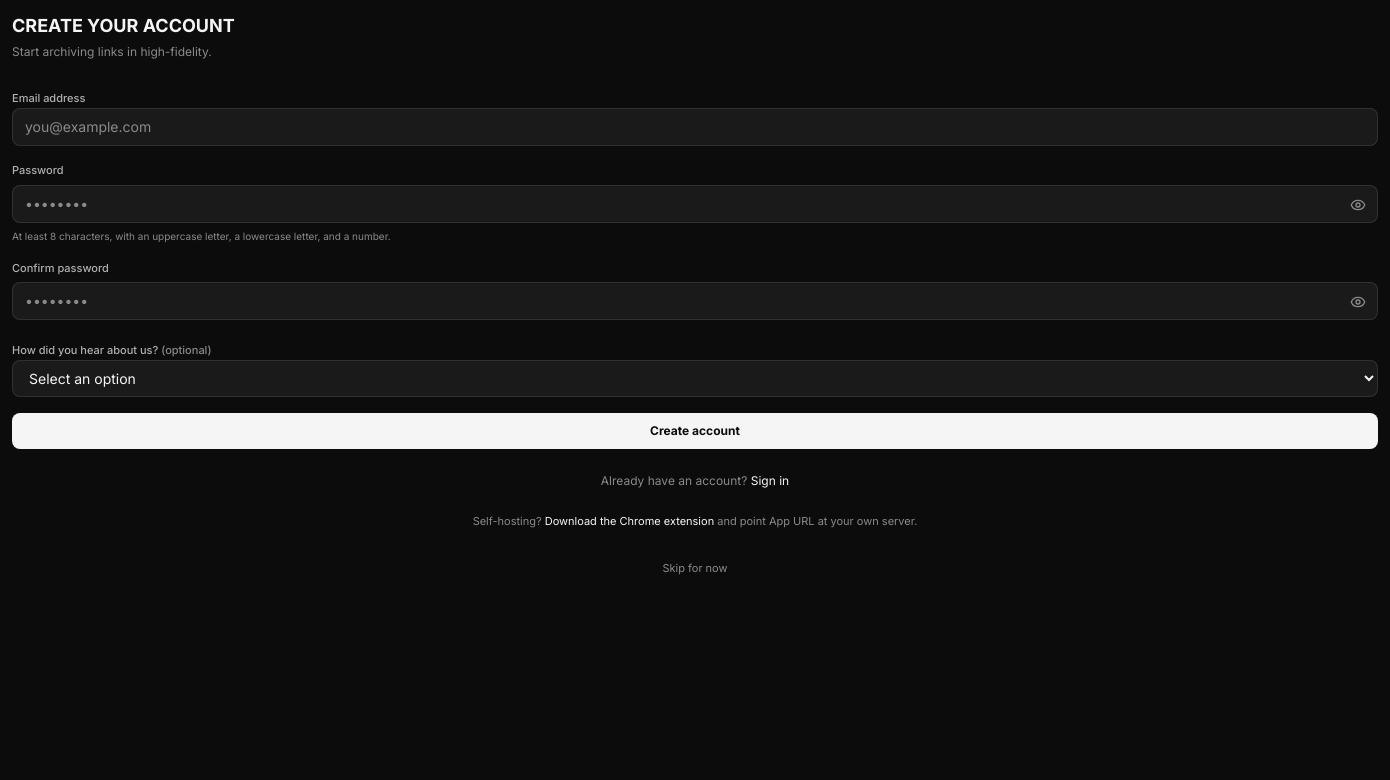
Scenario: auth forms when the request never returns › keeps sign-up usable
The width and height of the screenshot is (1390, 780).
In the field labelled "Email address": (695, 127) [12, 108, 1378, 146], type "person@example.com"
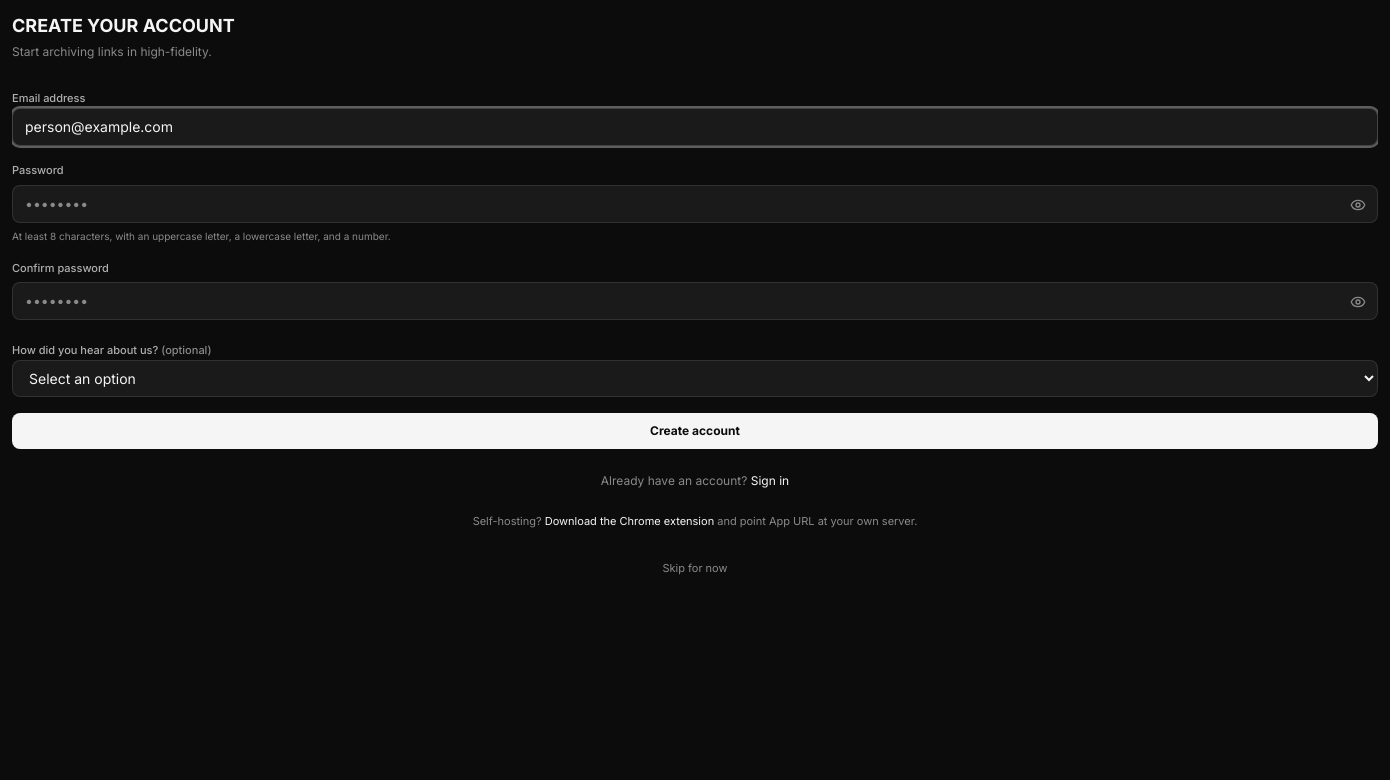
In the password field labelled "Password": (695, 204) [12, 184, 1378, 222], type "Memory404"
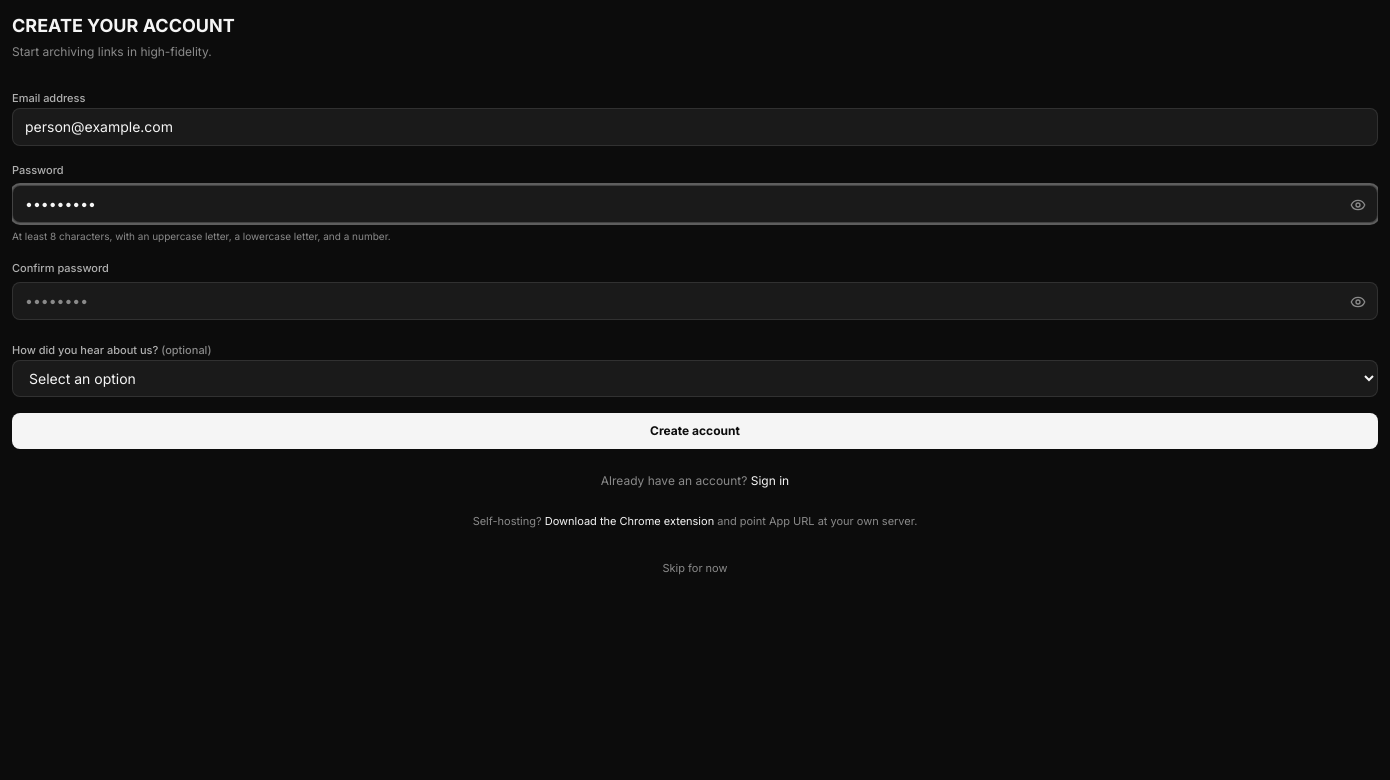
In the password field labelled "Confirm password": (695, 301) [12, 282, 1378, 320], type "Memory404"
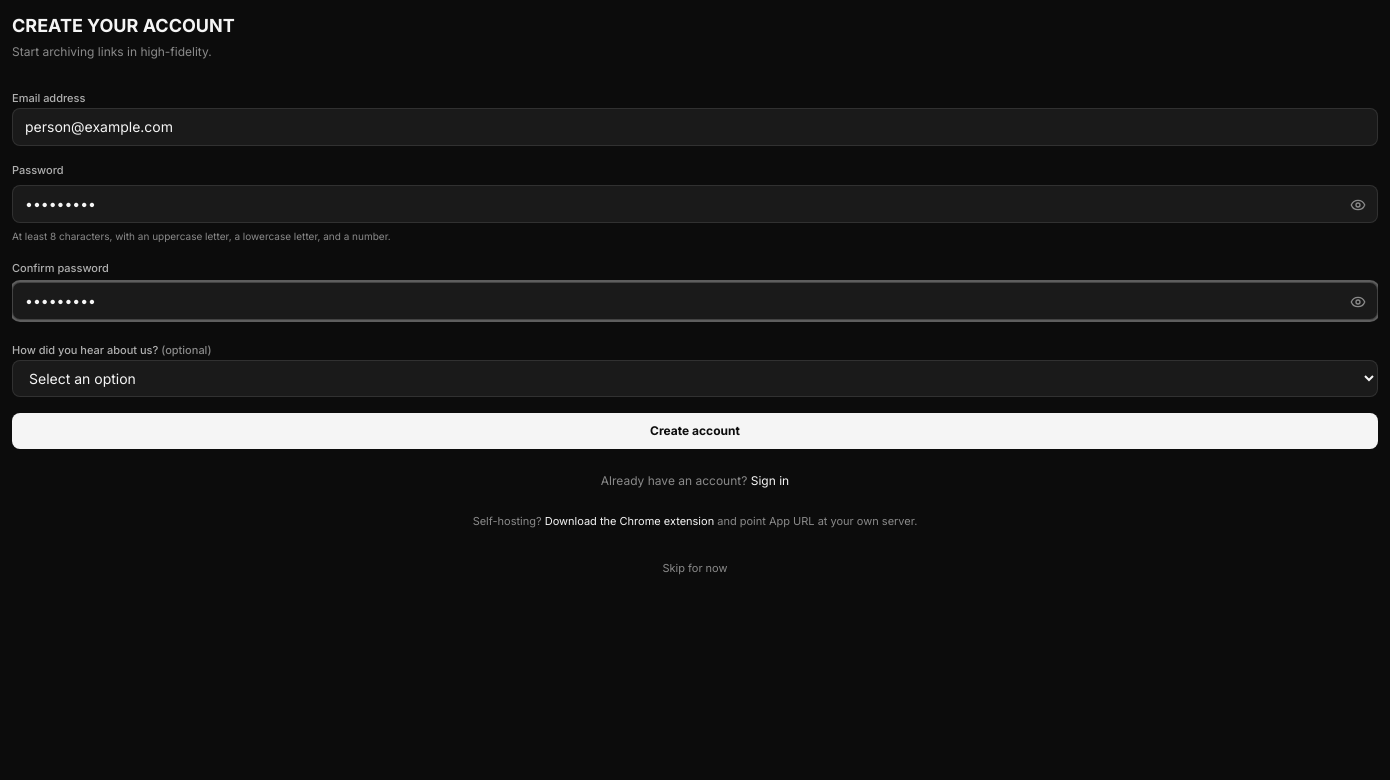
Click the button "Create account": (695, 431) [12, 413, 1378, 449]
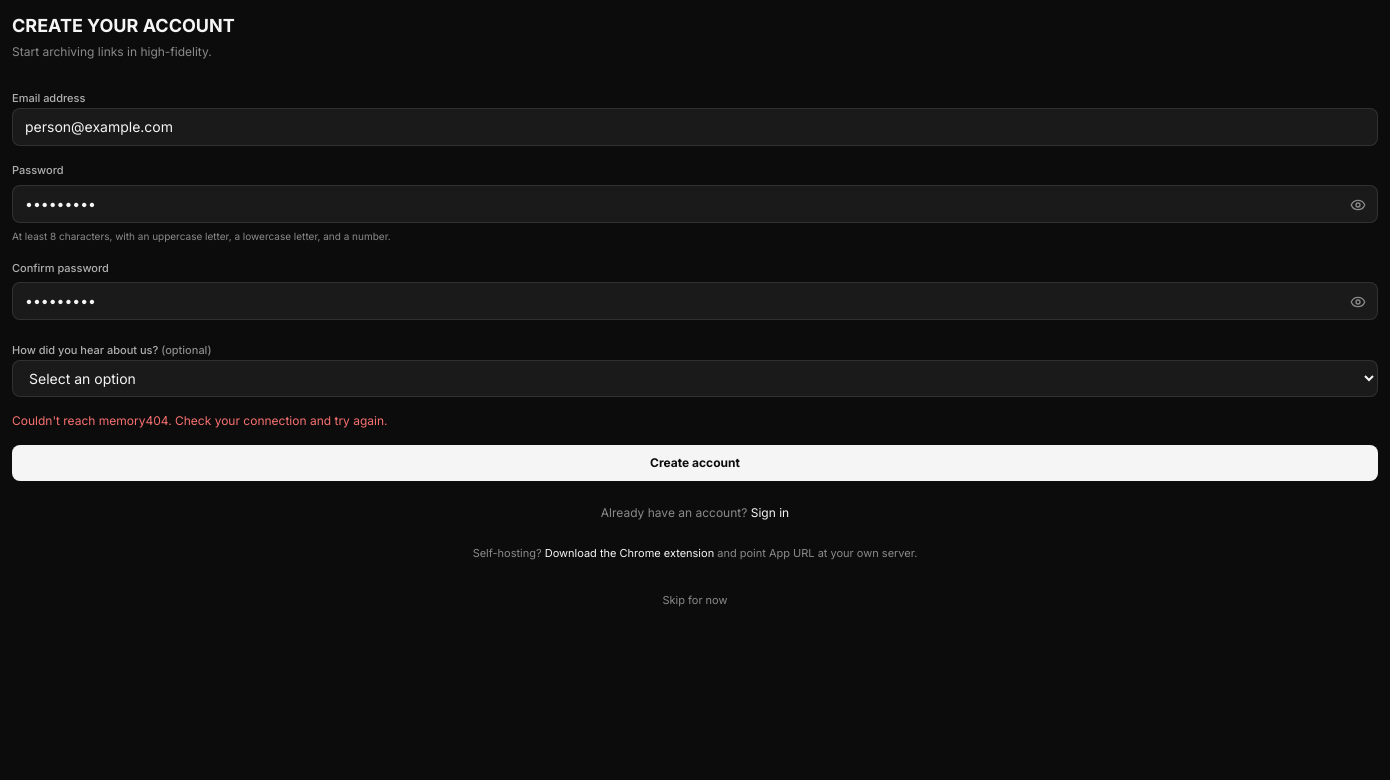
Expected: the button "Create account" is enabled, [12, 445, 1378, 481]
Expected: the message reads "Couldn't reach memory404. Check your connection and try again.", [12, 413, 388, 428]
